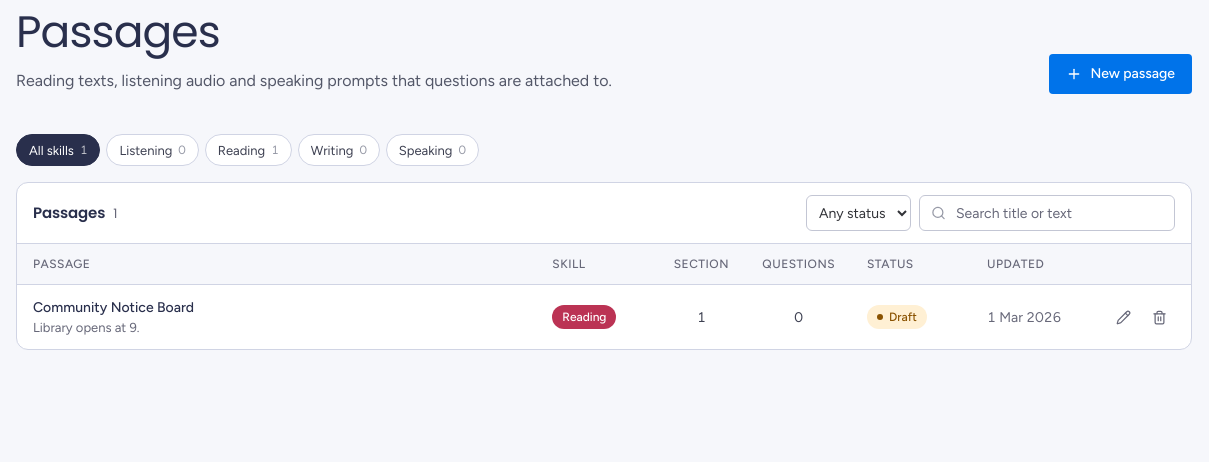
Test: PassageAdminContainer › menyaring berdasarkan skill
The image size is (1209, 462).
expect the text "Community Notice Board" is shown: met, box [33,299,194,316]
Click the radio button labelled "Listening 0" at {"x": 153, "y": 150}, box [106,134,199,166]
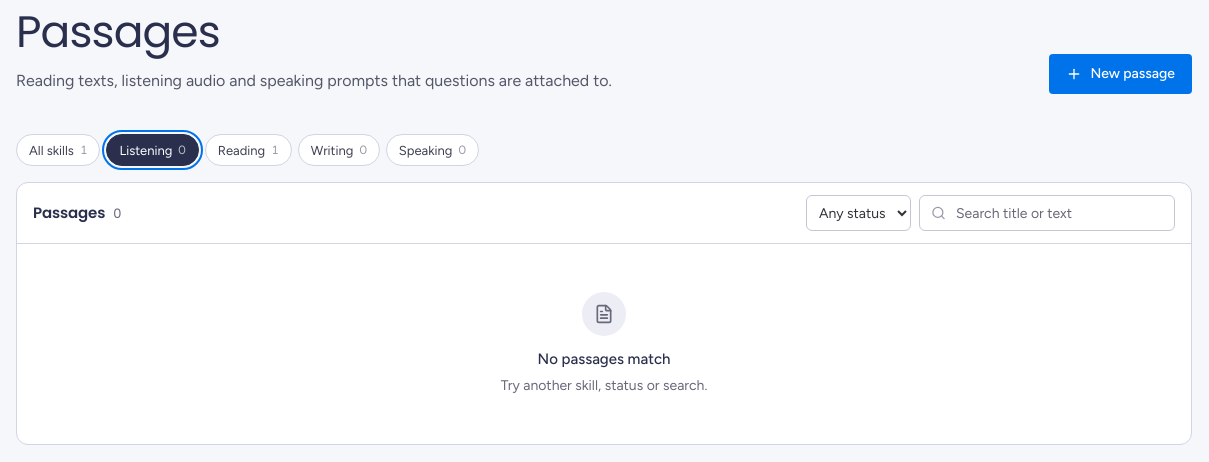
expect the text "Community Notice Board" is gone: met
Click the radio button labelled "Reading 1" at {"x": 248, "y": 150}, box [205,134,292,166]
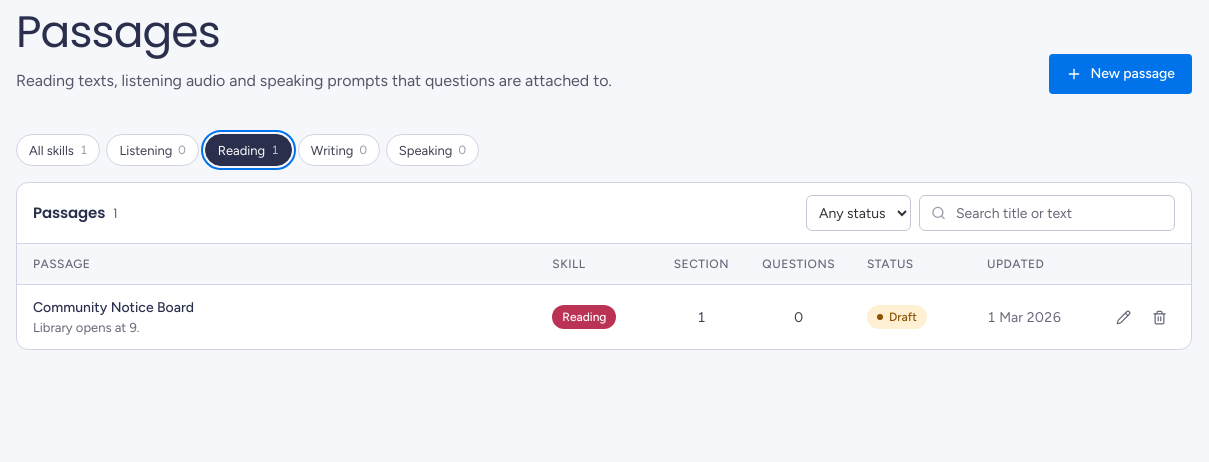
expect the text "Community Notice Board" is shown: met, box [33,299,194,316]
